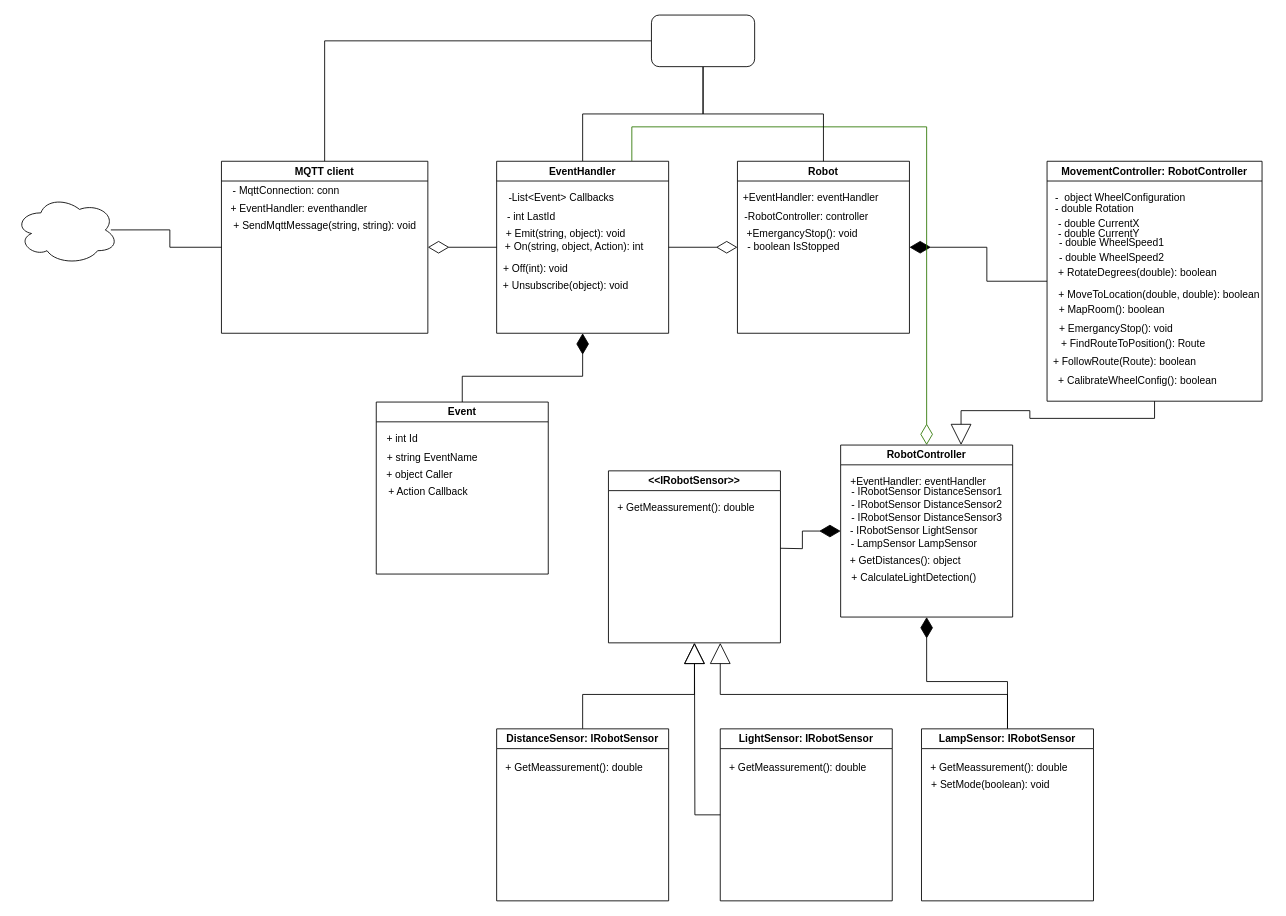
Some shapes in this 1286 by 916 pixel diagram are drawn without their labels. The shapes that lost their labels are listed below. From the top down, each one's centre as x and y in pixels, then its label:
[703,40]: Robot program.cs
[66,229]: Broker
